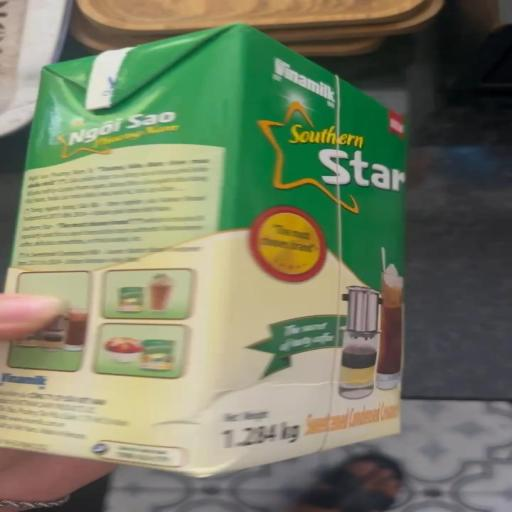ly_giay: (0, 24, 405, 477)
